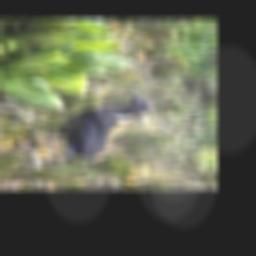Crow: (33, 92, 155, 160)
